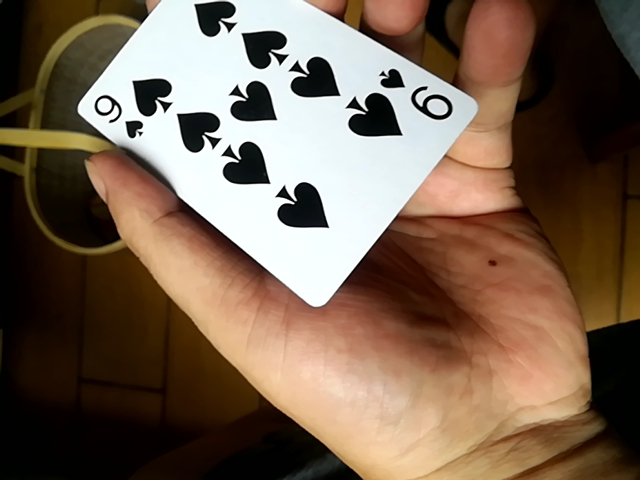ht 9: (75, 0, 487, 310)
